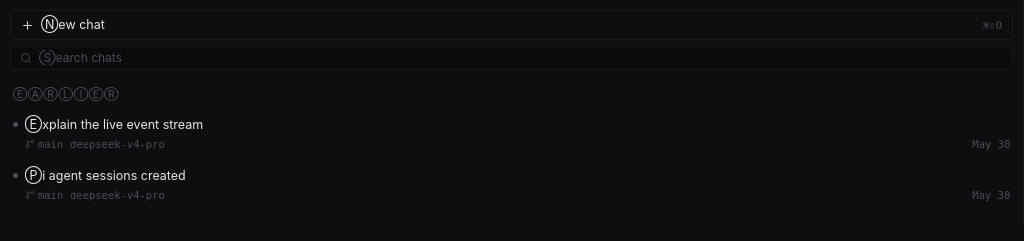
Test: ChatRail › filters threads by search query (REQ-003)
Type "live" into the field with placeholder "Search chats" at (521, 58), box [39,48,1003,67]
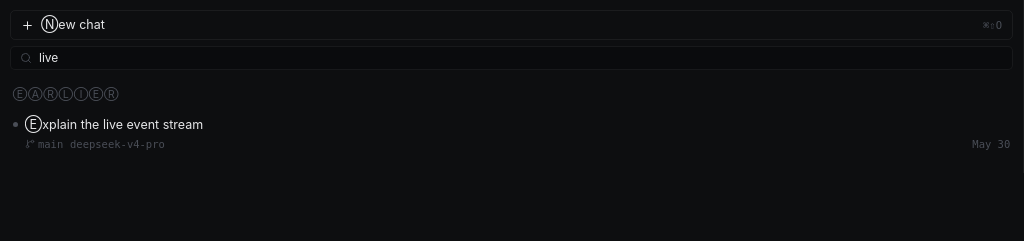
Expected: the text "Explain the live event stream" is shown, [25,117,203,132]
Result: the button "Pi agent sessions created" is gone
